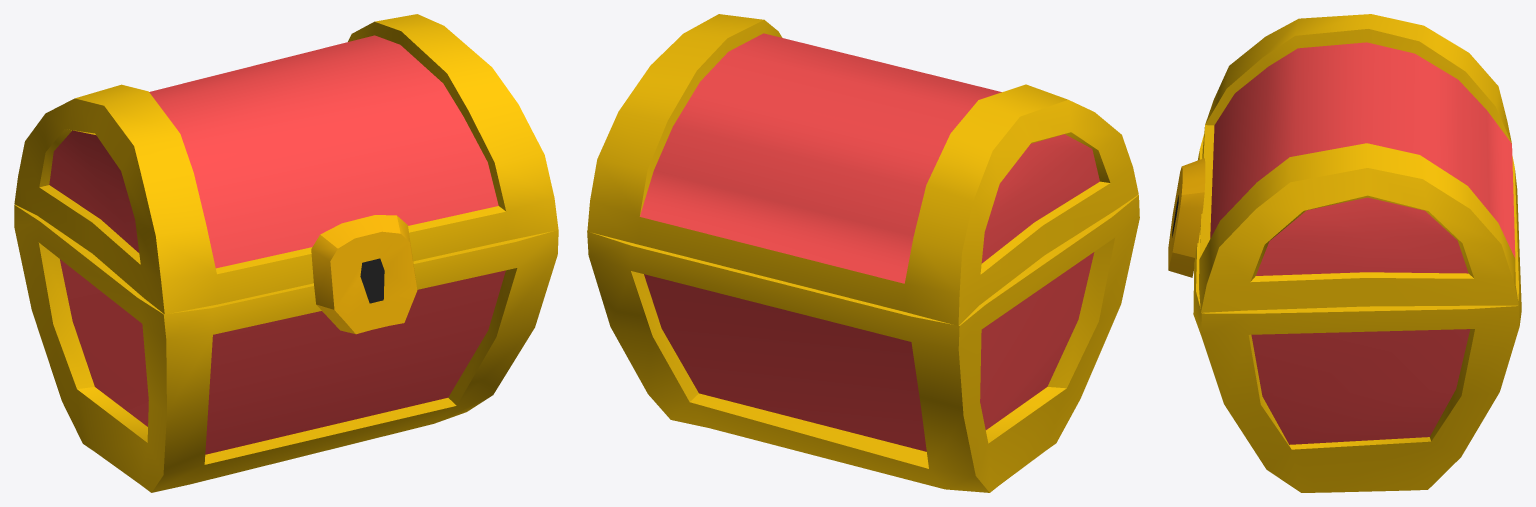
Rendered from Chest_01.fbx.
3 views of the same model, side by side, from view 1: azimuth 30°, elevation 25°; view 2: azimuth 150°, elevation 25°; view 3: azimuth 270°, elevation 25° (orthographic). The views are drawn at different scales.
Visible parts, largest first — view 1: Chest_Top_01, Chest_Bottom_01; view 2: Chest_Top_01, Chest_Bottom_01; view 3: Chest_Top_01, Chest_Bottom_01.
Part boxes in pixels (x1=…): Chest_Top_01: x1=14, y1=14, x2=558, y2=334; Chest_Bottom_01: x1=14, y1=204, x2=558, y2=492; Chest_Top_01: x1=587, y1=14, x2=1138, y2=325; Chest_Bottom_01: x1=587, y1=195, x2=1139, y2=492; Chest_Top_01: x1=1168, y1=14, x2=1518, y2=312; Chest_Bottom_01: x1=1193, y1=135, x2=1521, y2=492.
Bounding box in the file's own units: 49.2 × 43.01 × 40.96.
